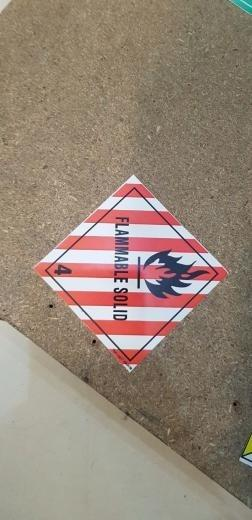flammable-solid: (31, 173, 231, 374)
